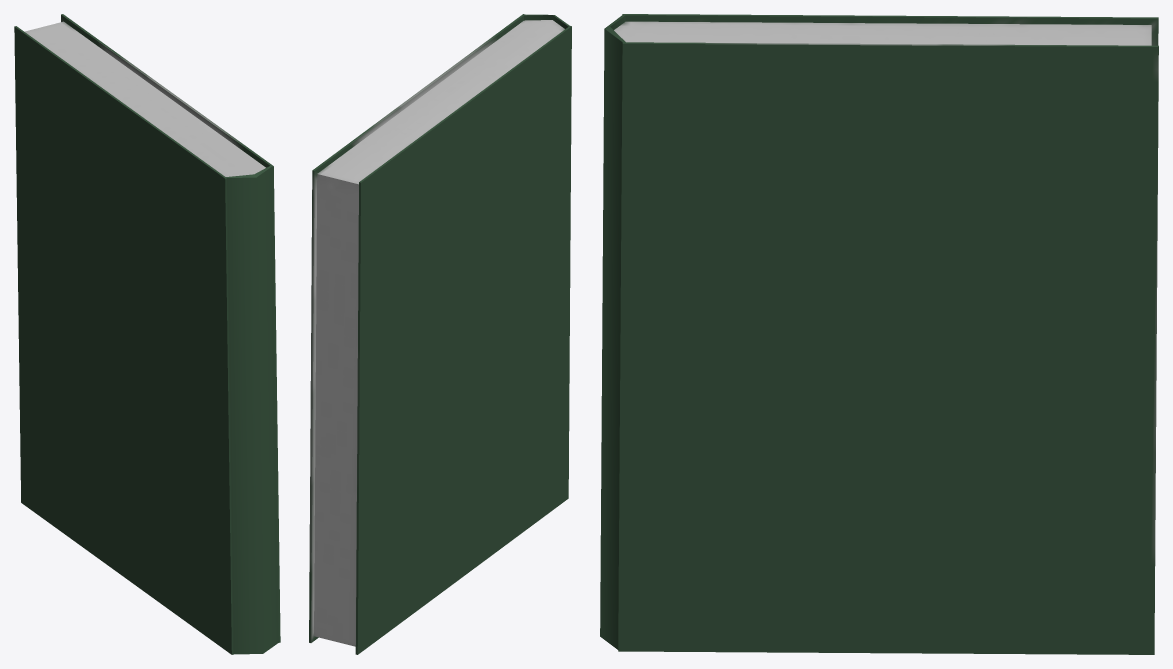
File: BookDarkGreen.fbx
3 views of the same model, side by side, from view 1: azimuth 30°, elevation 25°; view 2: azimuth 150°, elevation 25°; view 3: azimuth 270°, elevation 25° (orthographic). The views are drawn at different scales.
Visible parts, largest first — view 1: BookDarkGreenOBJ; view 2: BookDarkGreenOBJ; view 3: BookDarkGreenOBJ.
Part boxes in pixels (box(x1,y1,x2,y2)): BookDarkGreenOBJ: box(14, 14, 280, 654); BookDarkGreenOBJ: box(309, 14, 571, 654); BookDarkGreenOBJ: box(600, 14, 1158, 654).
Bounding box in the file's own units: 4.5 × 38.09 × 31.6.
Materials: 1 (1 with a texture image).
